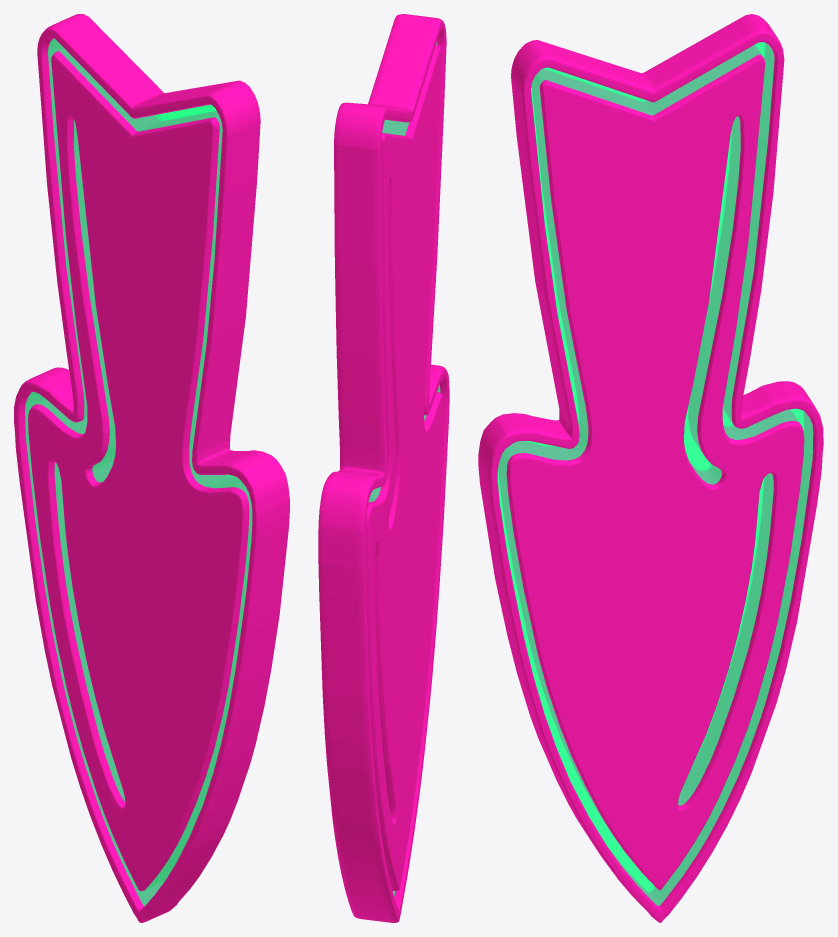
File: arrow.fbx
3 views of the same model, side by side, from view 1: azimuth 30°, elevation 25°; view 2: azimuth 150°, elevation 25°; view 3: azimuth 270°, elevation 25° (orthographic).
Parts seen in each view (by area): view 1: Colorful glowing arrow.04; view 2: Colorful glowing arrow.04; view 3: Colorful glowing arrow.04.
Boxes of the visible parts, x1=… form: Colorful glowing arrow.04: x1=14, y1=14, x2=289, y2=922; Colorful glowing arrow.04: x1=318, y1=14, x2=449, y2=922; Colorful glowing arrow.04: x1=478, y1=14, x2=823, y2=922.
Bounding box in the file's own units: 14.22 × 100 × 35.74.
